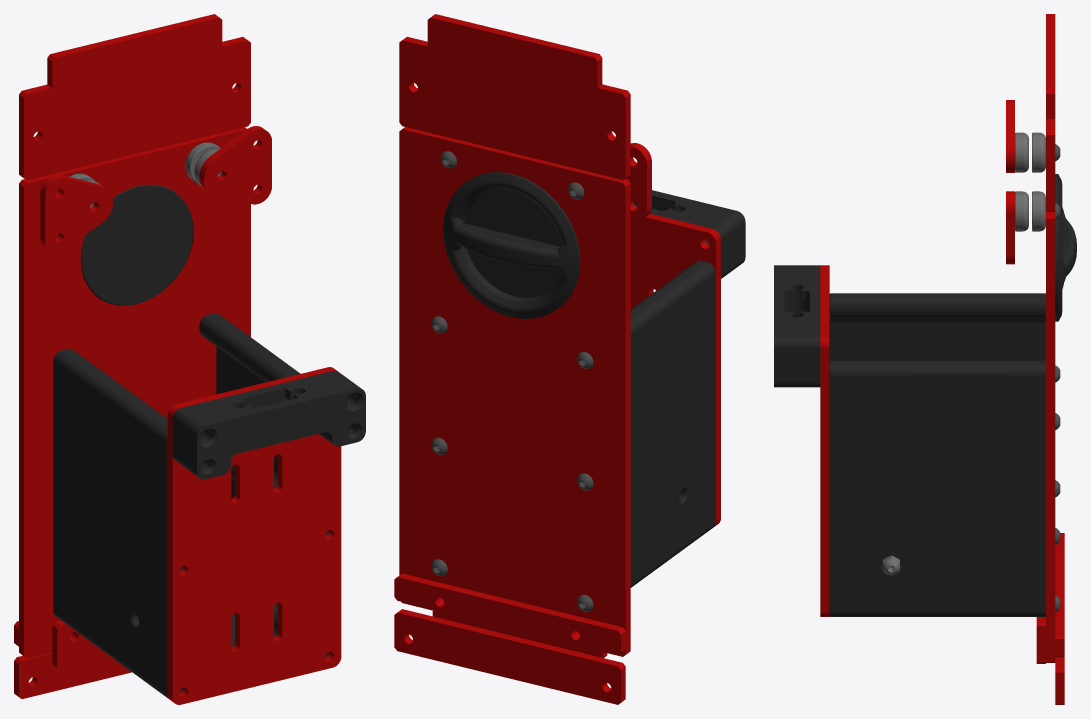
File: battery-box.glb
3 renders of one model, left to right at view 1: azimuth 30°, elevation 25°; view 2: azimuth 150°, elevation 25°; view 3: azimuth 270°, elevation 25°, orthographic. The views are drawn at different scales.
Parts seen in each view (by area): view 1: CarterBatterie, PlaqueArriere, SupportBatterie, CarterSup, BlocXT60, PoigneeBatterie, SupportMagnet, Link003(SupportMagnet), CacheInf, ContrePlaque; view 2: CarterBatterie, CarterSup, SupportBatterie, PoigneeBatterie, CacheInf, PlaqueArriere, CacheSup, BlocXT60, SupportMagnet, ContrePlaque; view 3: SupportBatterie, BlocXT60, CarterBatterie, PlaqueArriere, CarterSup, PoigneeBatterie, CacheSup, Link003(SupportMagnet), SupportMagnet, Magnet, Link001(Magnet), Link(Magnet) (+2 smaller).
Part boxes in pixels (left/top/right/bottom): CarterBatterie: left=19, top=127, right=250, bottom=658; PlaqueArriere: left=167, top=367, right=341, bottom=704; SupportBatterie: left=53, top=313, right=329, bottom=699; CarterSup: left=19, top=14, right=250, bottom=180; BlocXT60: left=172, top=370, right=365, bottom=479; PoigneeBatterie: left=80, top=184, right=193, bottom=305; SupportMagnet: left=40, top=174, right=113, bottom=252; Link003(SupportMagnet): left=199, top=126, right=271, bottom=204; CacheInf: left=14, top=652, right=131, bottom=698; ContrePlaque: left=52, top=620, right=111, bottom=669; CarterBatterie: left=399, top=127, right=630, bottom=656; CarterSup: left=399, top=14, right=630, bottom=179; SupportBatterie: left=630, top=260, right=715, bottom=587; PoigneeBatterie: left=443, top=172, right=580, bottom=318; CacheInf: left=394, top=609, right=625, bottom=704; PlaqueArriere: left=630, top=213, right=720, bottom=526; CacheSup: left=394, top=573, right=625, bottom=654; BlocXT60: left=633, top=190, right=745, bottom=278; SupportMagnet: left=625, top=143, right=651, bottom=221; ContrePlaque: left=432, top=610, right=607, bottom=657; SupportBatterie: left=829, top=293, right=1045, bottom=616; BlocXT60: left=774, top=265, right=820, bottom=387; CarterBatterie: left=1046, top=212, right=1055, bottom=662; PlaqueArriere: left=820, top=265, right=829, bottom=616; CarterSup: left=1046, top=14, right=1055, bottom=211; PoigneeBatterie: left=1055, top=174, right=1076, bottom=321; CacheSup: left=1055, top=533, right=1064, bottom=657; Link003(SupportMagnet): left=1006, top=191, right=1014, bottom=264; SupportMagnet: left=1006, top=100, right=1014, bottom=172; Magnet: left=1032, top=191, right=1045, bottom=231; Link001(Magnet): left=1015, top=191, right=1028, bottom=231; Link(Magnet): left=1032, top=132, right=1045, bottom=172.
Bounding box in the file's own units: 0.08 × 0.215 × 0.098.
